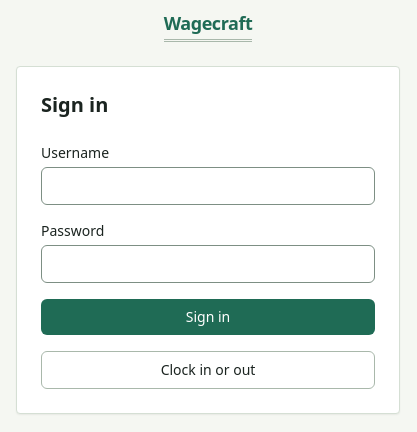
Test: AuthGate › opens the time clock from the sign-in screen and comes back
Click the button "Clock in or out" at (208, 370), box 41,350 -> 375,388
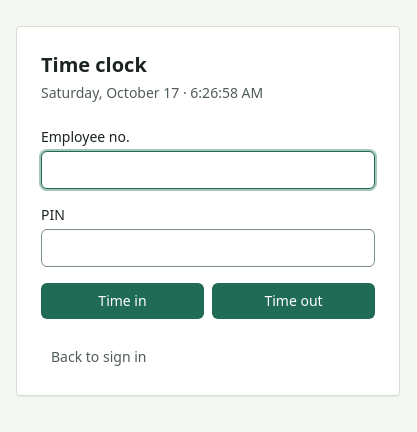
expect the heading "Time clock" is shown: met, box 41,51 -> 147,78
Click the button "Back to sign in" at (99, 357), box 41,343 -> 156,371
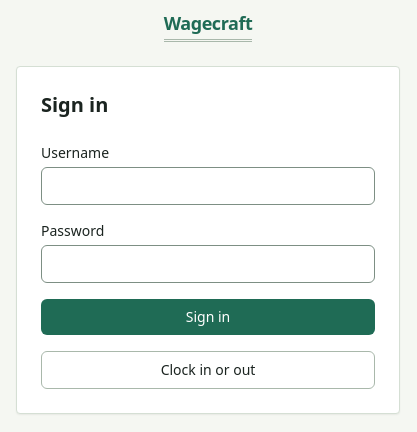
expect the heading "Sign in" is shown: met, box 41,90 -> 108,118
